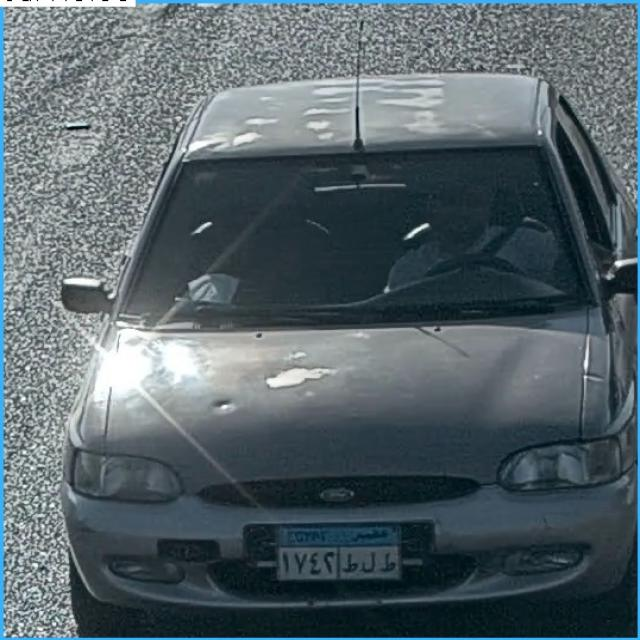windshield: (122, 160, 580, 311)
